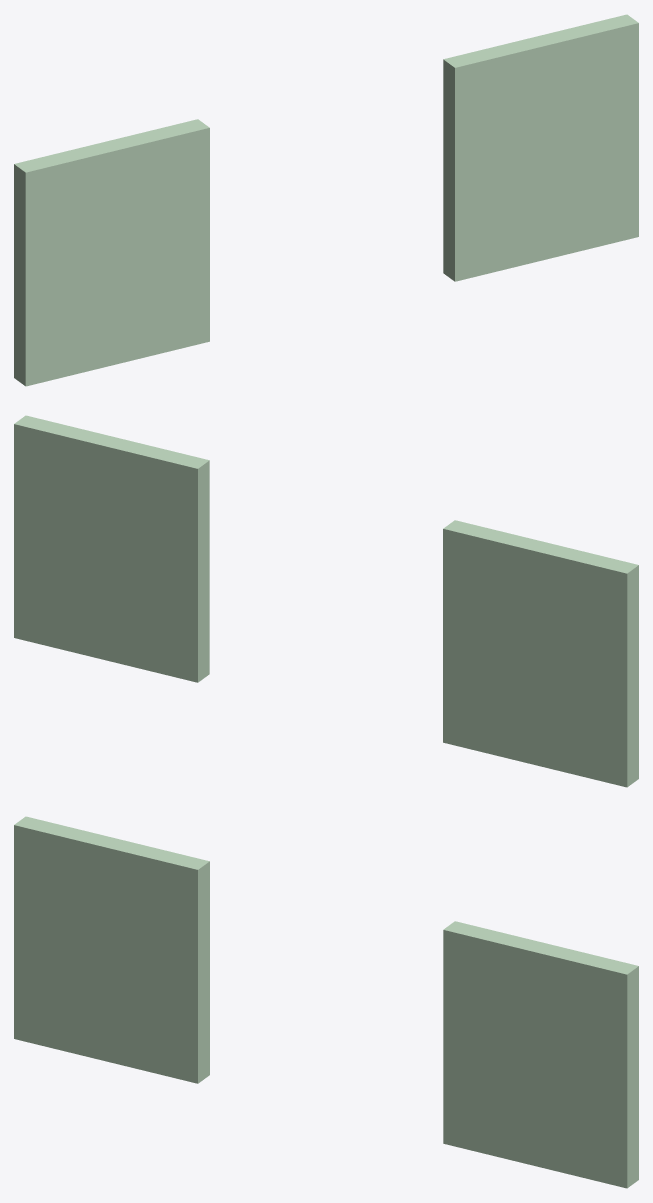
3 renders of one model, top to bottom at view 1: azimuth 30°, elevation 25°; view 2: azimuth 150°, elevation 25°; view 3: azimuth 330°, elevation 25°, orthographic.
Parts seen in each view (by area): view 1: <组件#93>_1; view 2: <组件#93>_1; view 3: <组件#93>_1.
Boxes of the visible parts, <box> form: <组件#93>_1: <box>14,14,638,386</box>; <组件#93>_1: <box>14,415,638,787</box>; <组件#93>_1: <box>14,816,638,1188</box>.
Size of the model in its own units: 118 by 39.37 by 3.94.
